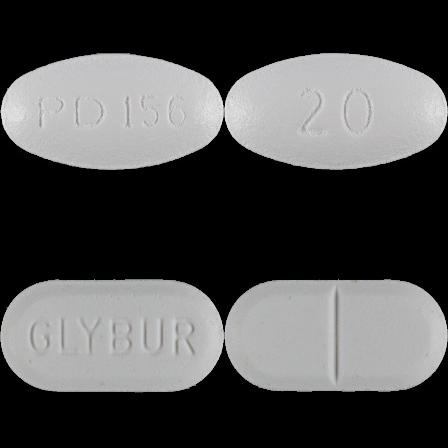43353-892: (0, 0, 224, 224)
